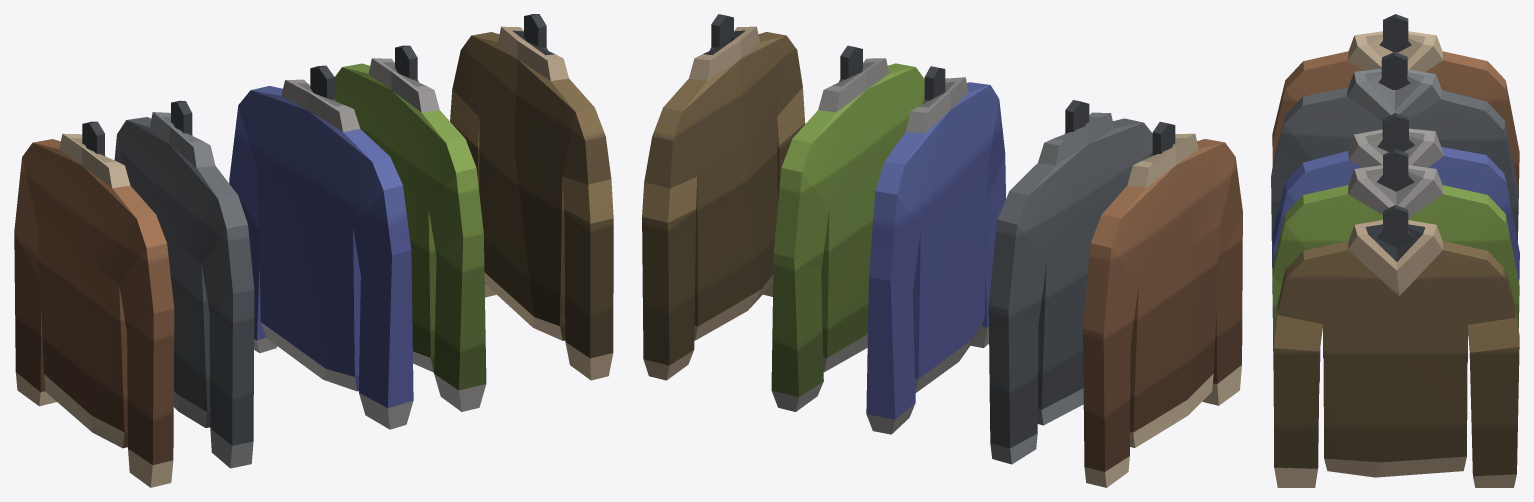
Rendered from SM_Prop_Clothes_Jacket_Set_01.obj.
3 renders of one model, left to right at view 1: azimuth 30°, elevation 25°; view 2: azimuth 150°, elevation 25°; view 3: azimuth 270°, elevation 25°, orthographic. The views are drawn at different scales.
Visible parts, largest first — view 1: SM_Prop_Clothes_Jacket_Set_01_0; view 2: SM_Prop_Clothes_Jacket_Set_01_0; view 3: SM_Prop_Clothes_Jacket_Set_01_0.
Boxes of the visible parts, x1,y1,x2,y2 form: SM_Prop_Clothes_Jacket_Set_01_0: (14,14,613,487); SM_Prop_Clothes_Jacket_Set_01_0: (642,14,1242,487); SM_Prop_Clothes_Jacket_Set_01_0: (1271,14,1519,487).
Bounding box in the file's own units: 1.55 × 0.9833 × 0.797.
Materials: 1 (1 with a texture image).
